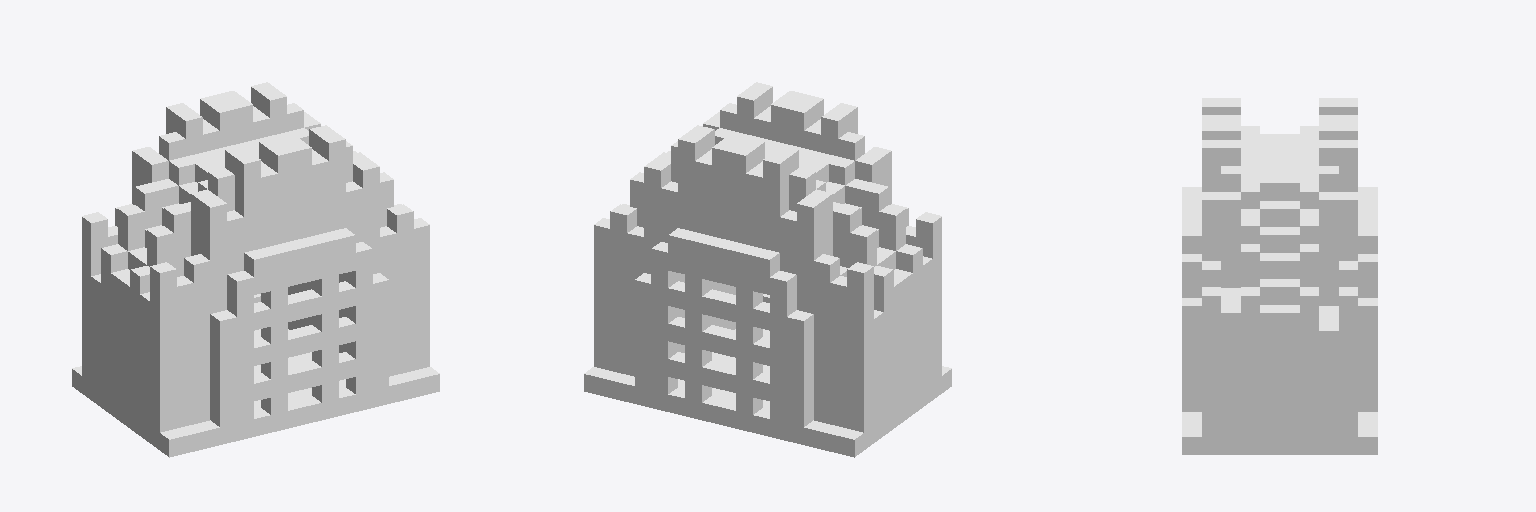
The model's file is WallGate2.obj.
The picture shows the model from 3 angles: view 1: azimuth 30°, elevation 25°; view 2: azimuth 150°, elevation 25°; view 3: azimuth 270°, elevation 25°; orthographic projection.
Parts seen in each view (by area): view 1: WallGate2; view 2: WallGate2; view 3: WallGate2.
Boxes of the visible parts, box(x1,y1,x2,y2) form: WallGate2: box(72, 82, 439, 457); WallGate2: box(584, 82, 951, 457); WallGate2: box(1182, 98, 1377, 454).
Size of the model in its own units: 16 by 15 by 10.